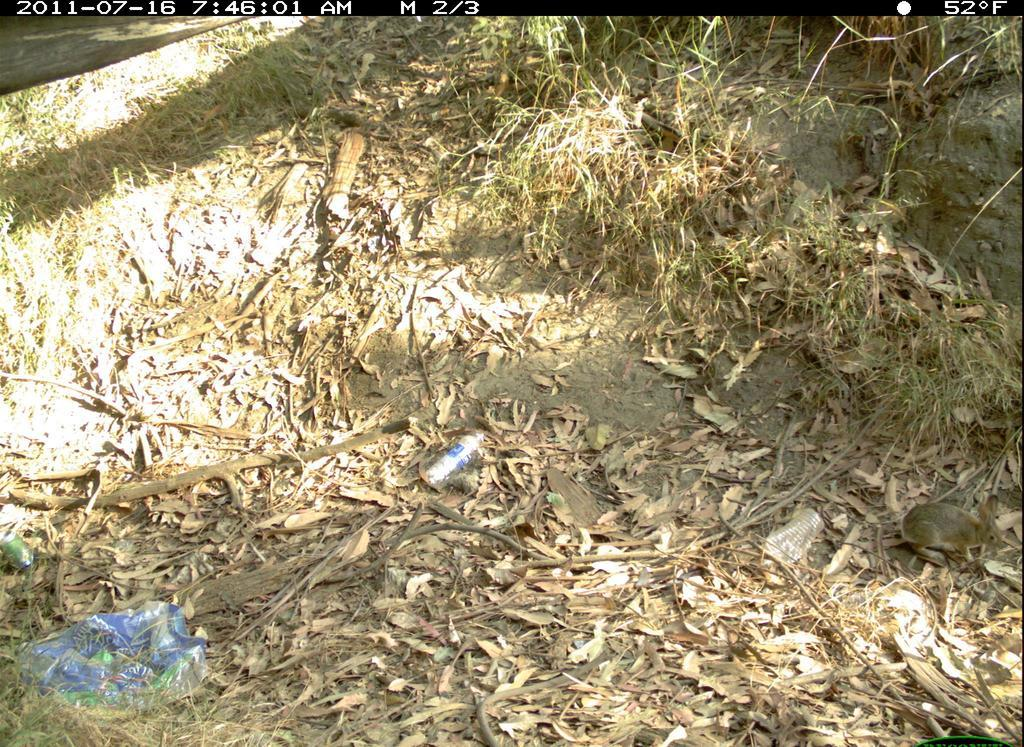rabbit: (894, 483, 1014, 575)
